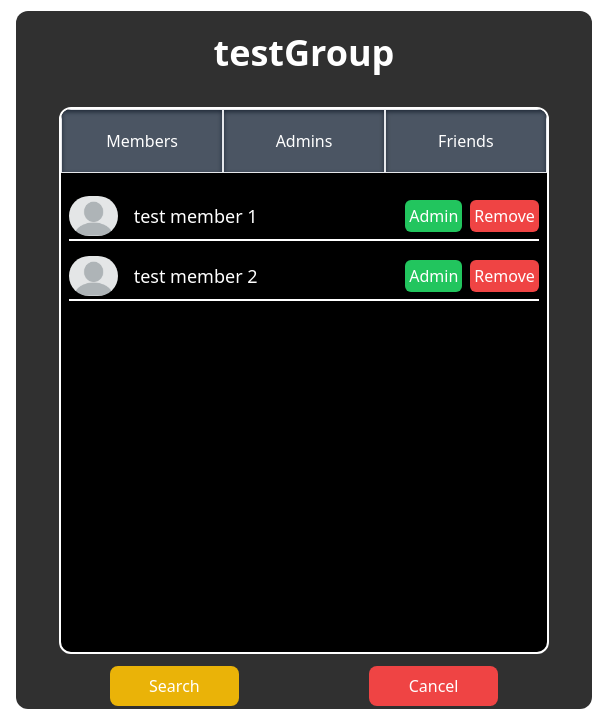
Test: tests the groupManagerComponent › should filter the members correctly
The image size is (609, 720).
Click the button "Search" at (174, 686), box [110,666,239,706]
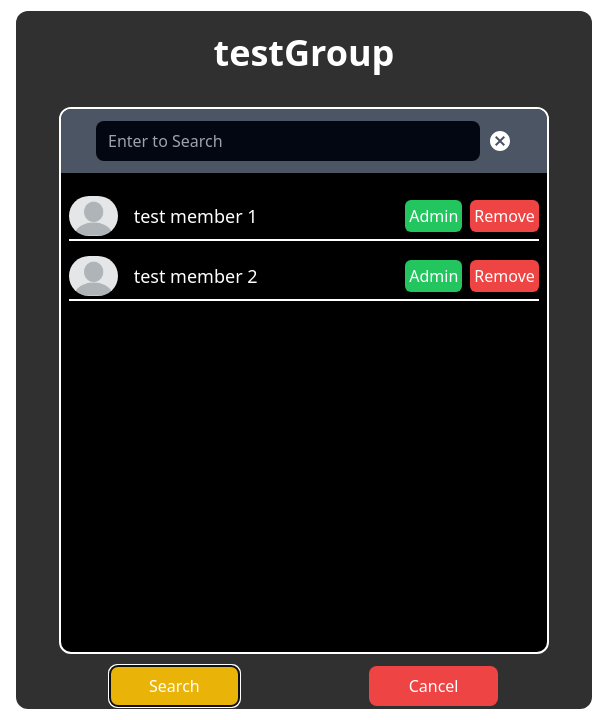
Now the field with placeholder "Enter to Search" is shown
Type "test member 1" into the field with placeholder "Enter to Search" at (288, 141), box [96,121,480,161]
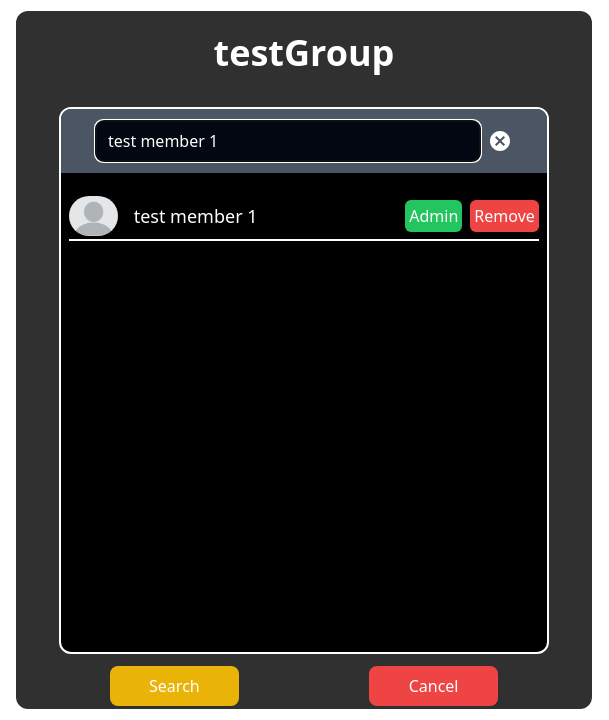
Now the text "test member 2" is gone
